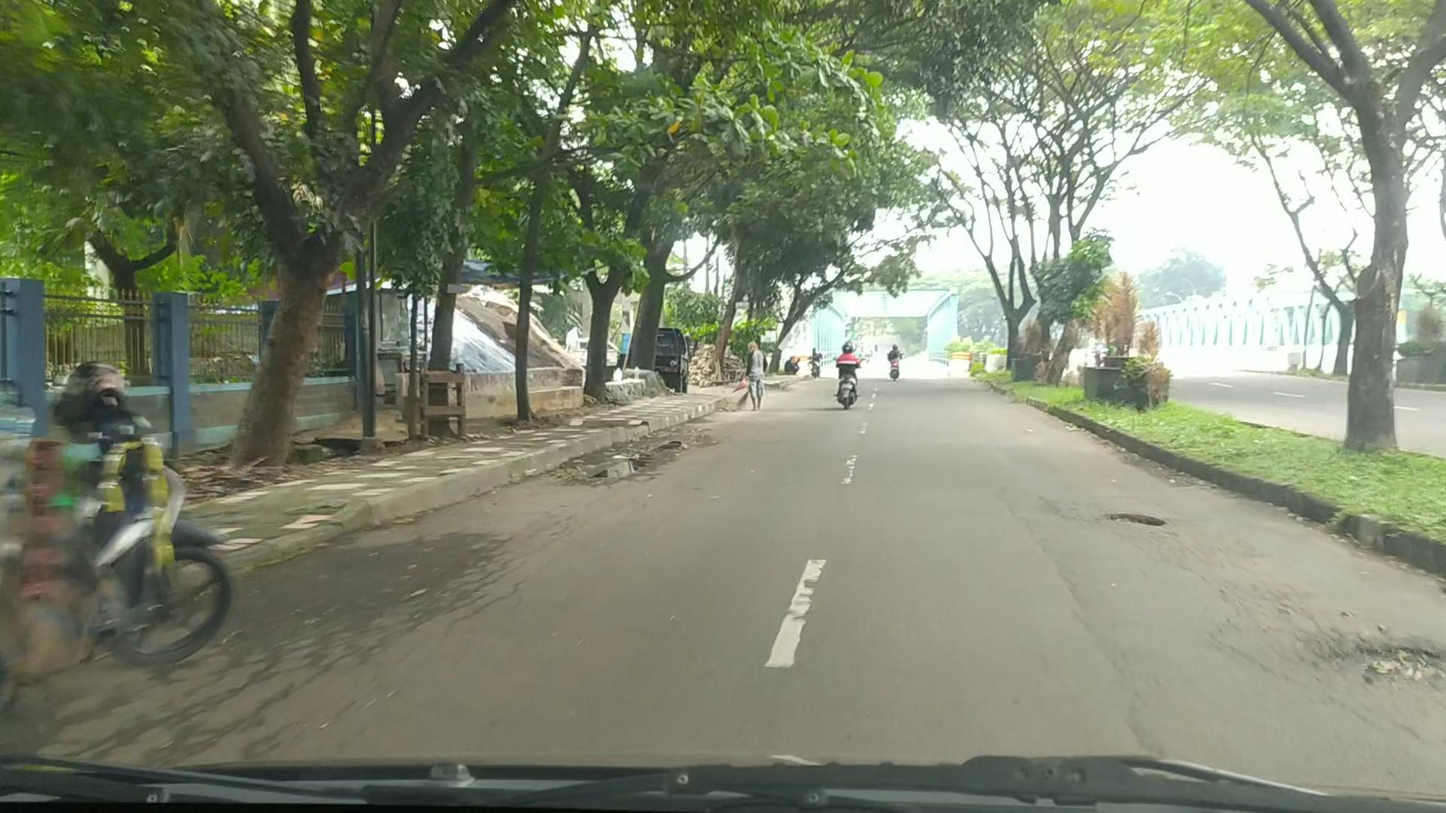pothole: (1331, 637, 1446, 685), (589, 454, 653, 480), (1106, 511, 1170, 527), (651, 440, 683, 453)
